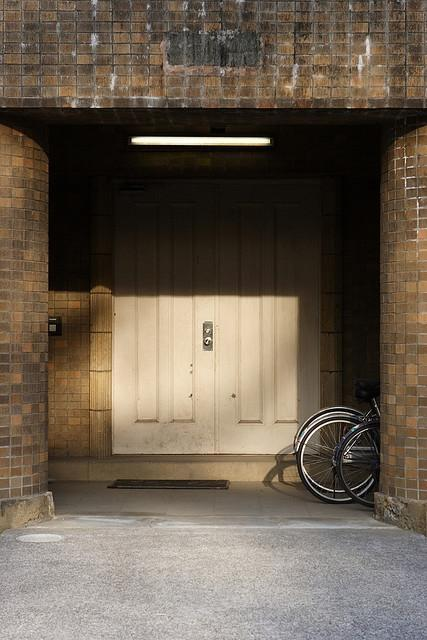bicycle: (290, 402, 384, 506)
